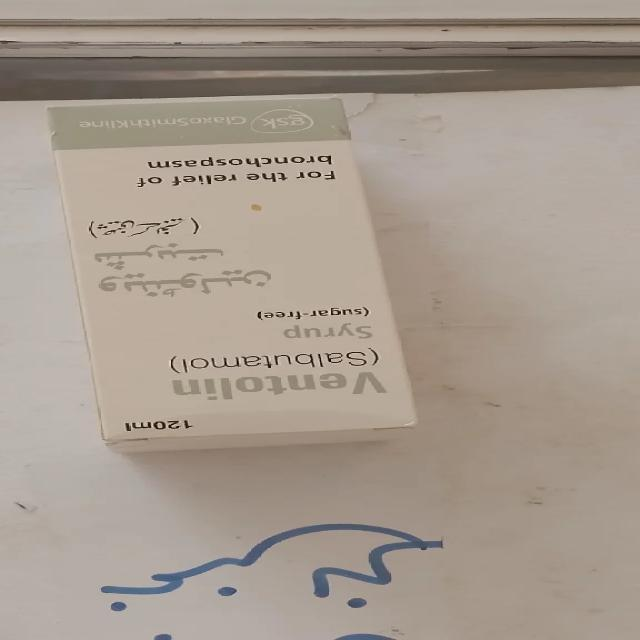drug-name: (165, 371, 393, 402)
